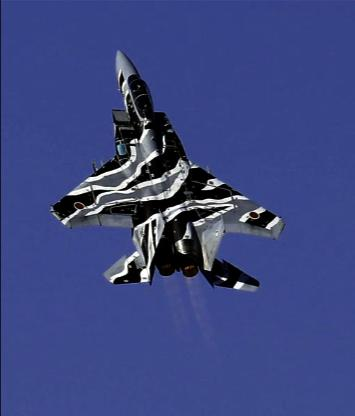F117: (49, 50, 284, 292)
